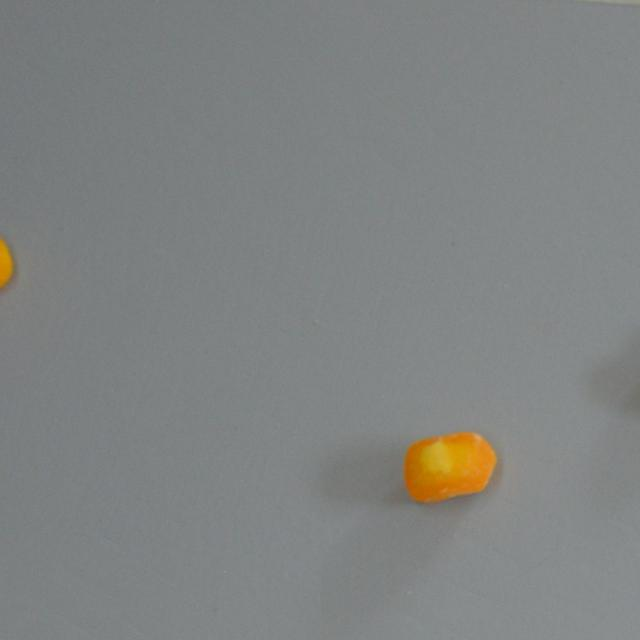estandar: (403, 430, 495, 504)
